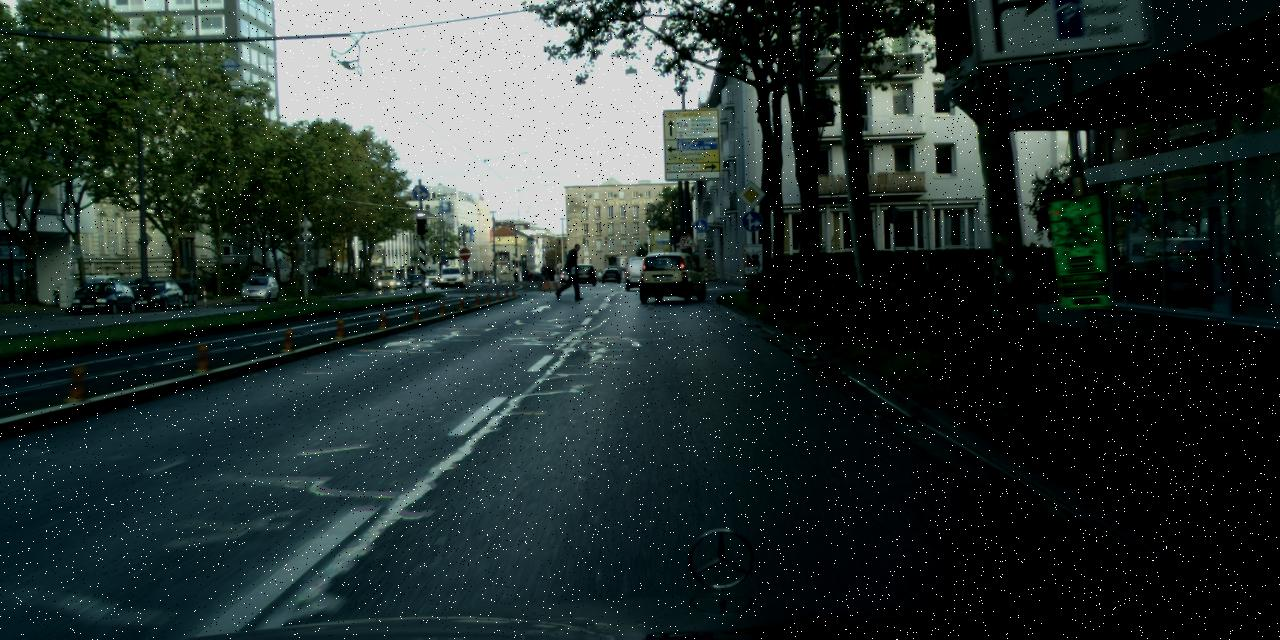ped: (560, 243, 582, 299), (544, 265, 552, 282), (524, 268, 534, 281), (540, 263, 546, 282), (549, 267, 554, 282), (597, 268, 601, 279), (514, 270, 518, 280)
